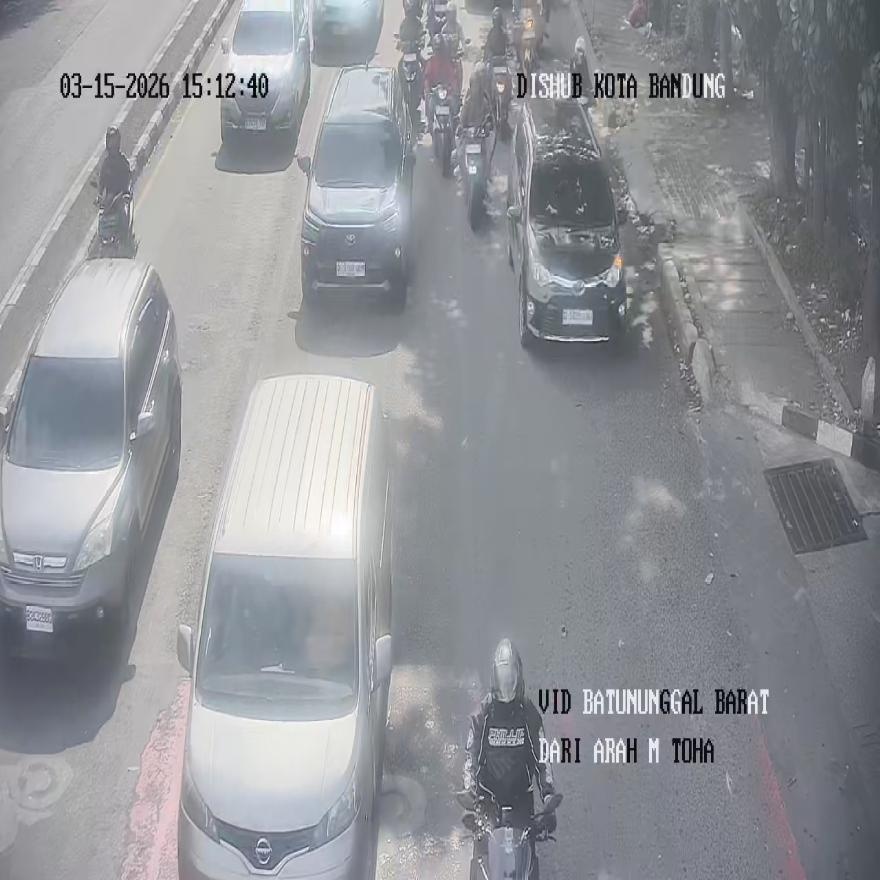Motor: (176, 374, 393, 876), (0, 258, 181, 643), (507, 96, 627, 344), (297, 62, 417, 303), (219, 0, 310, 145)
Truk: (455, 788, 560, 880), (456, 121, 493, 230), (92, 176, 135, 258), (394, 30, 423, 136), (426, 83, 457, 177), (514, 5, 541, 95), (492, 61, 512, 141), (569, 38, 593, 104)
